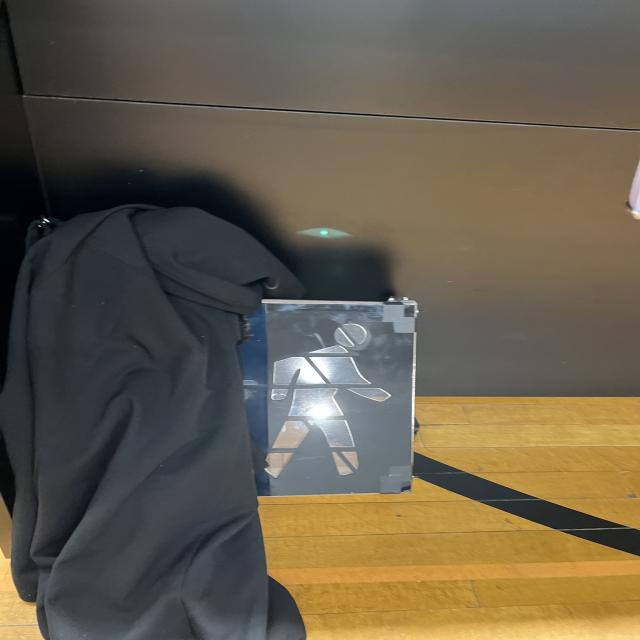go: (244, 298, 413, 492)
